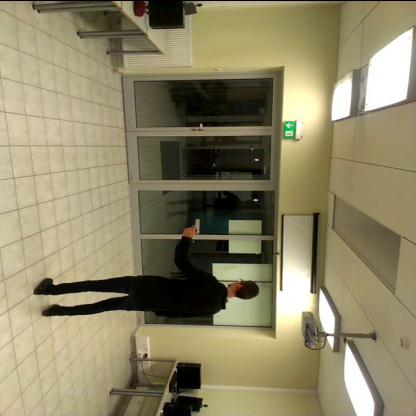Pistol: (184, 216, 202, 234)
